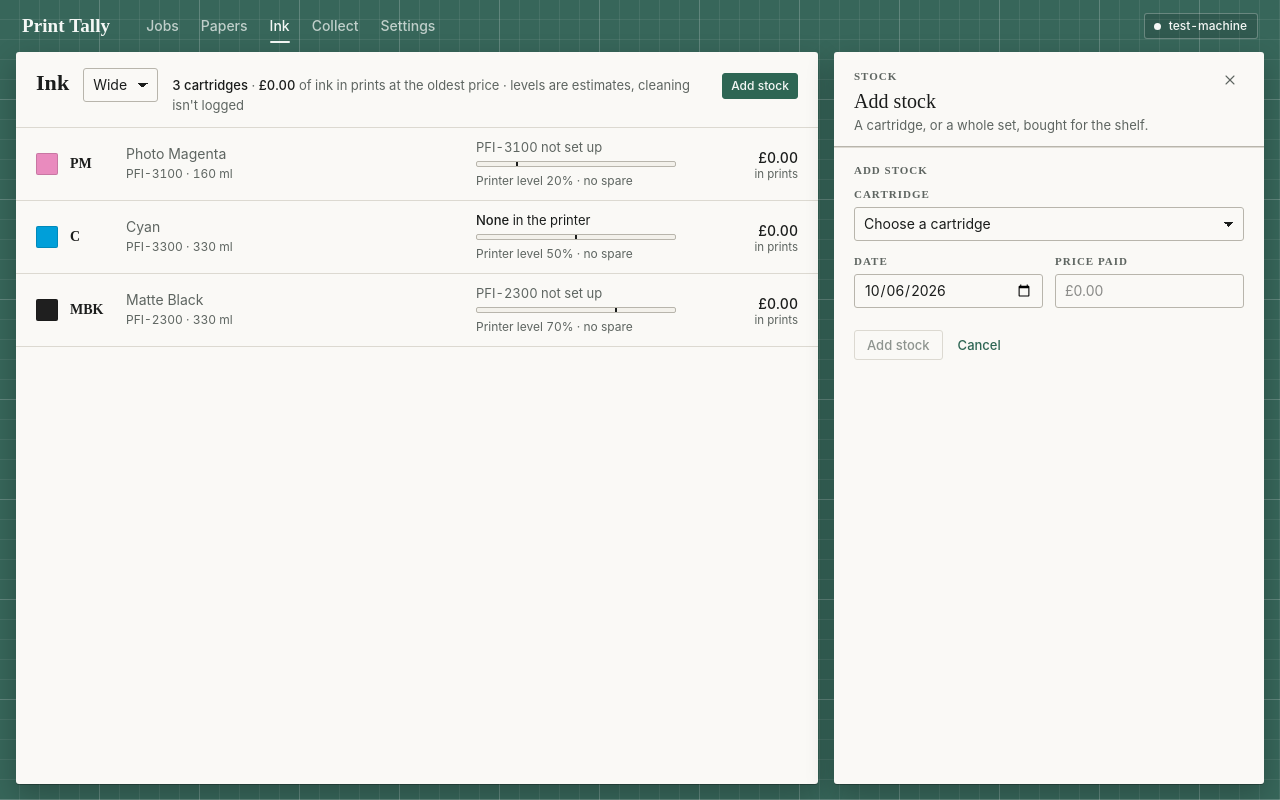
Test case: Type on a set picks the matching MBK counterpart and reuses only matching products
Select "All 3 cartridges (a set)" in the dropdown labelled "Cartridge" at point(1049, 224), box 854,207 -> 1244,241
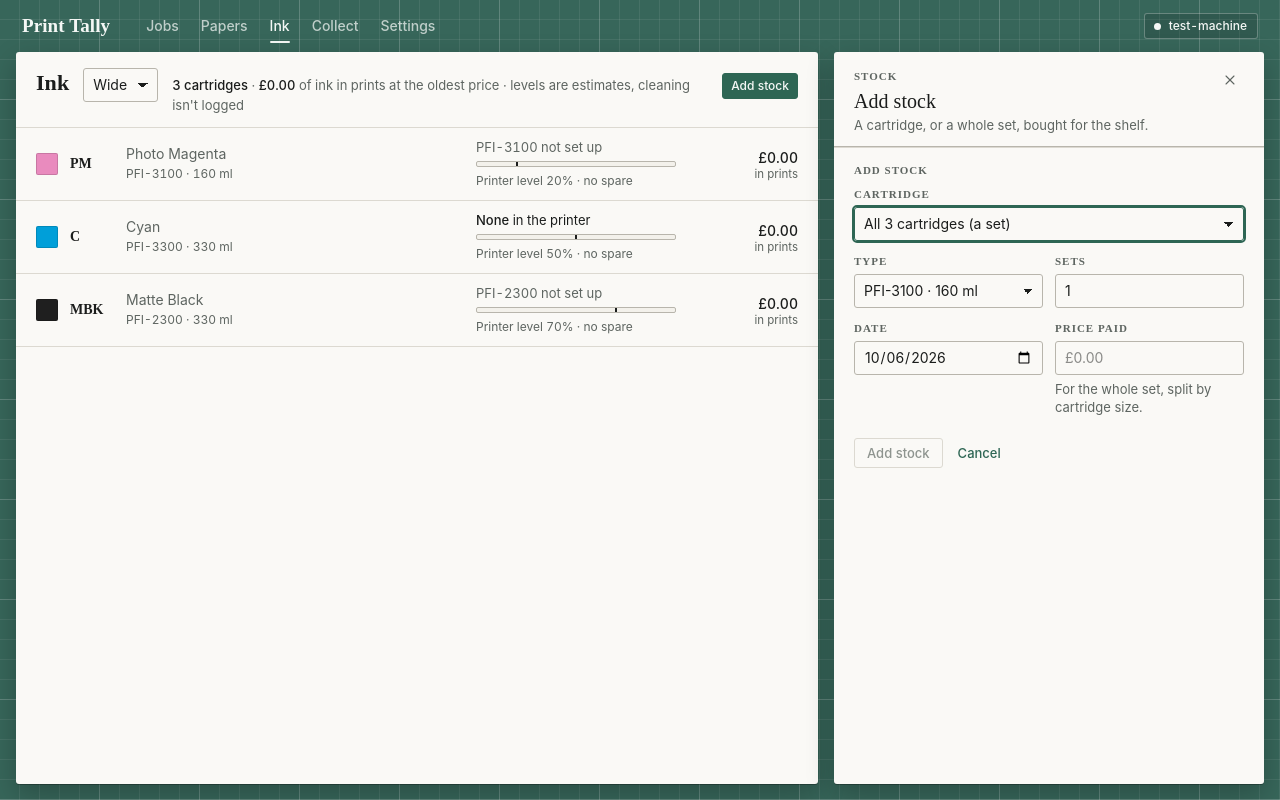
Select "PFI-3300 · 330 ml" in the dropdown labelled "Type" at point(948, 291), box 854,274 -> 1043,308
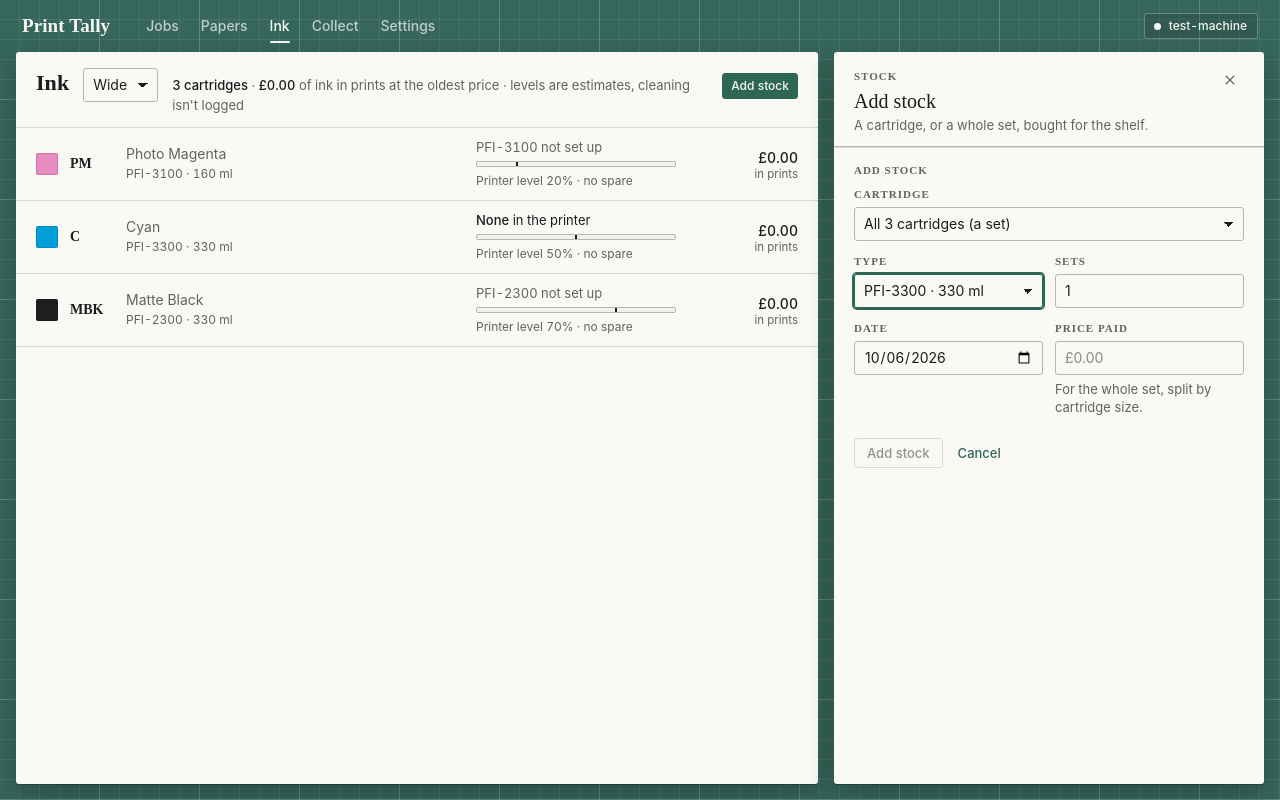
Type "120" into the field labelled "Price paid" at point(1150, 358), box 1055,341 -> 1244,375
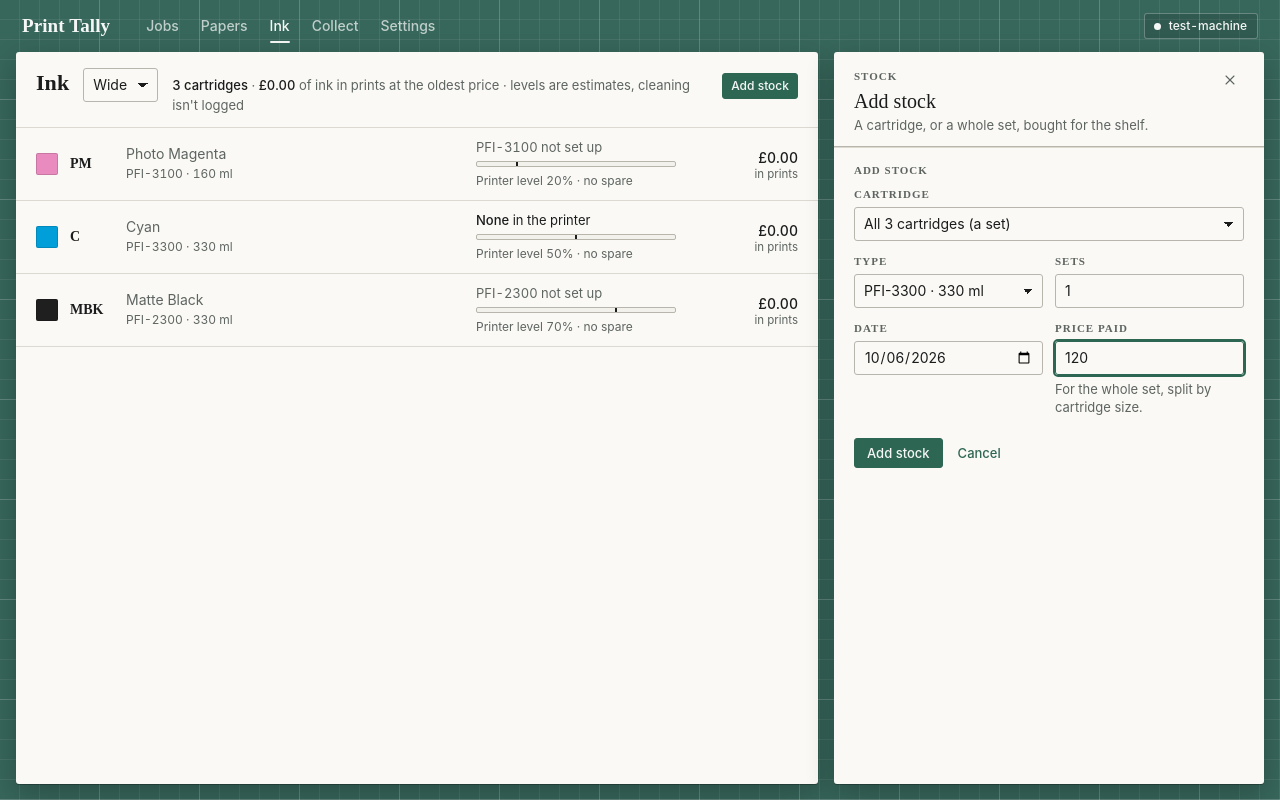
Click the button "Add stock" at point(898, 453), box 854,438 -> 943,468
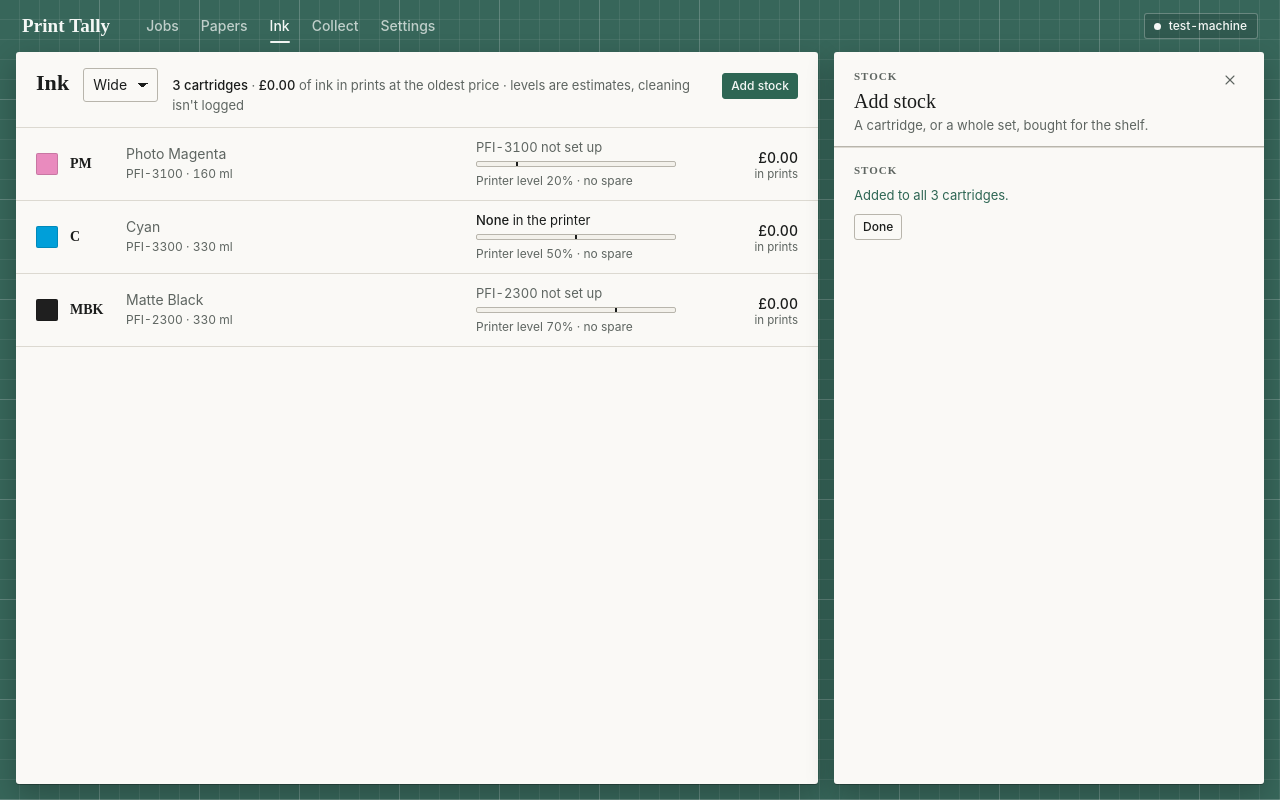
Expected: the text "Added to all 3 cartridges." is shown, 854,187 -> 1009,203
